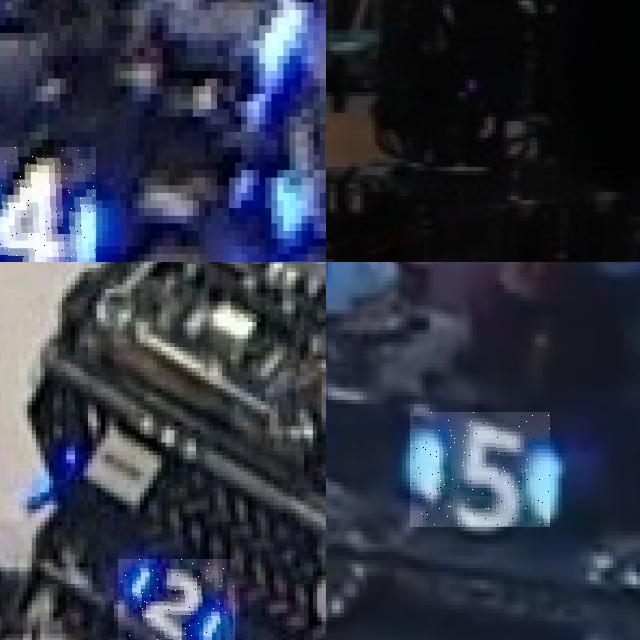B2: (118, 558, 235, 640)
B4: (0, 147, 96, 262)
B5: (410, 412, 550, 527)
